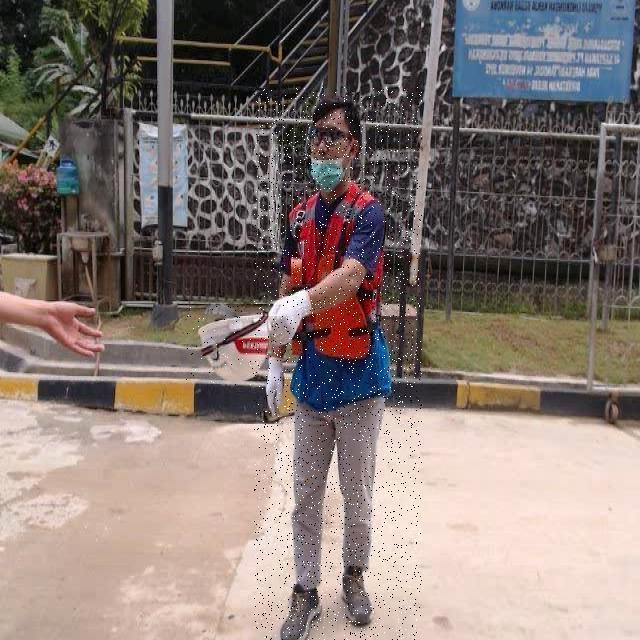10: (254, 86, 422, 640)
8: (290, 91, 374, 208), (255, 266, 339, 354)
helmet_white: (272, 585, 326, 640), (336, 565, 374, 631)
